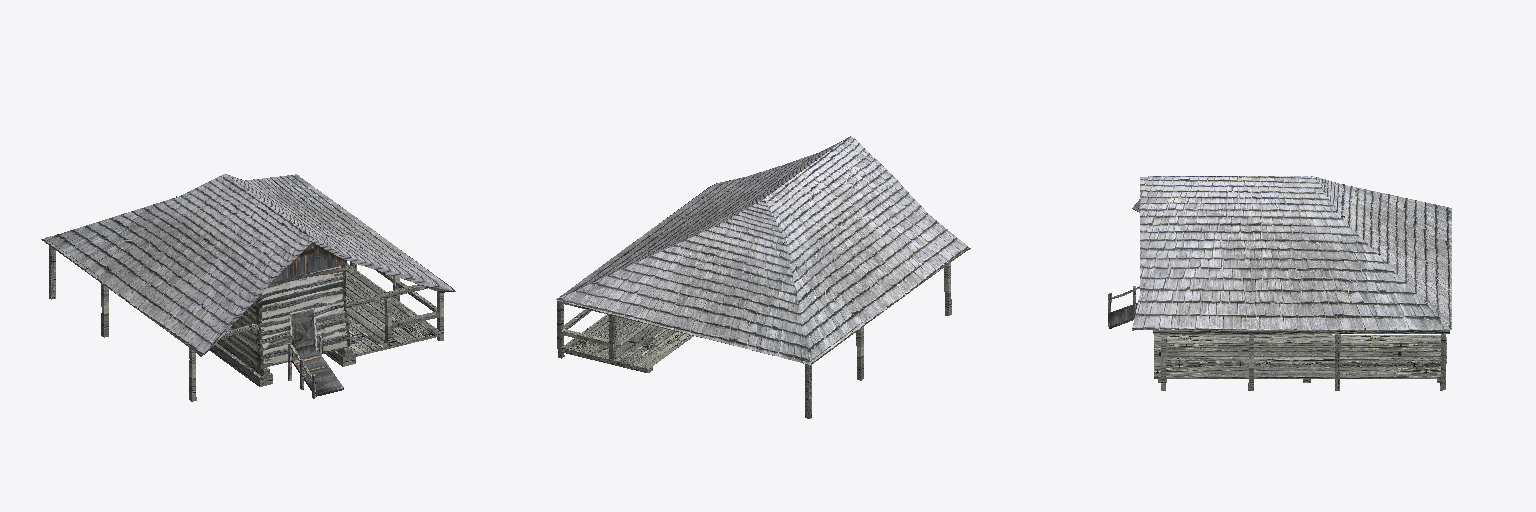
3 views of the same model, side by side, from view 1: azimuth 30°, elevation 25°; view 2: azimuth 150°, elevation 25°; view 3: azimuth 270°, elevation 25° (orthographic).
Visible parts, largest first — view 1: woodcutters, door; view 2: woodcutters; view 3: woodcutters.
Part boxes in pixels (left/top/right/bottom): woodcutters: left=41, top=174, right=455, bottom=401; door: left=293, top=310, right=315, bottom=355; woodcutters: left=556, top=136, right=970, bottom=418; woodcutters: left=1108, top=176, right=1451, bottom=390.
Size of the model in its own units: 22.68 by 12.3 by 26.14.
Materials: 6 (3 with a texture image).